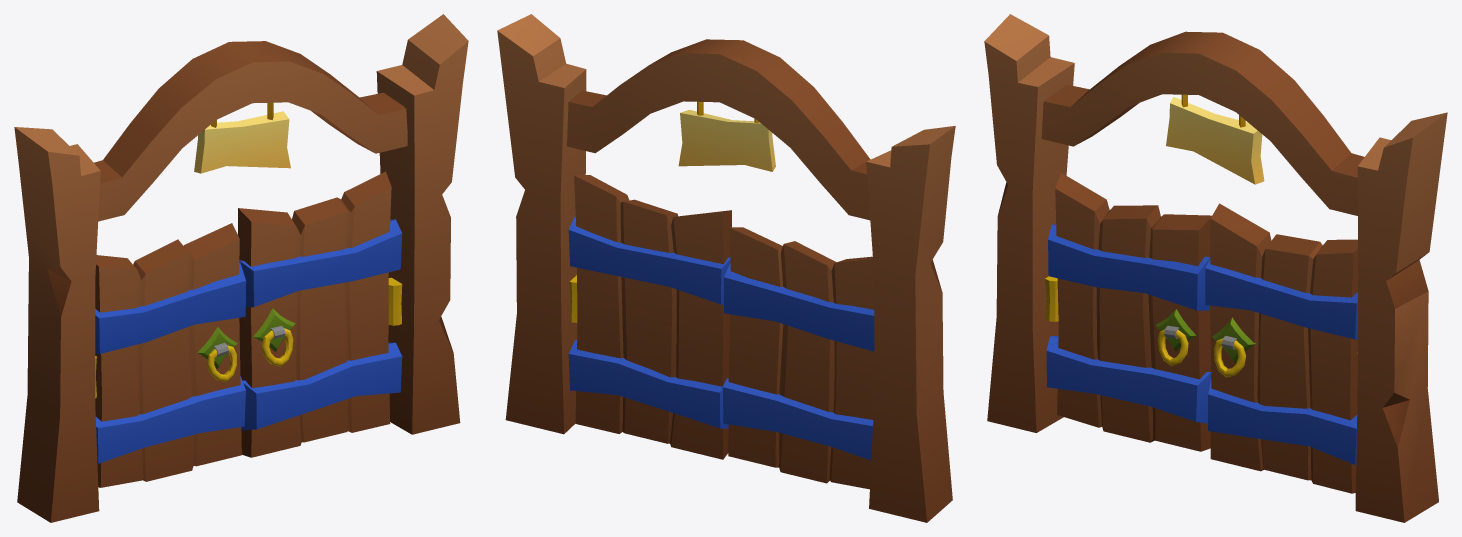
File: Gate.glb
The picture shows the model from 3 angles, left to right: view 1: azimuth 30°, elevation 25°; view 2: azimuth 150°, elevation 25°; view 3: azimuth 330°, elevation 25°; orthographic projection.
Visible parts, largest first — view 1: Gatepillar, GateRight, GateLeft; view 2: Gatepillar, GateRight, GateLeft; view 3: Gatepillar, GateLeft, GateRight.
Boxes of the visible parts, x1,y1,x2,y2 form: Gatepillar: (14, 14, 468, 522); GateRight: (238, 171, 402, 457); GateLeft: (95, 223, 246, 487); Gatepillar: (497, 14, 955, 522); GateRight: (568, 175, 731, 459); GateLeft: (722, 227, 874, 489); Gatepillar: (984, 14, 1447, 522); GateLeft: (1045, 172, 1211, 451); GateRight: (1205, 203, 1358, 493).
Size of the model in its own units: 4.19 by 3.84 by 0.5012.
1 material, 1 textured.
